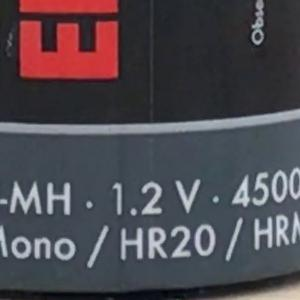HR20: (112, 215, 219, 269)
